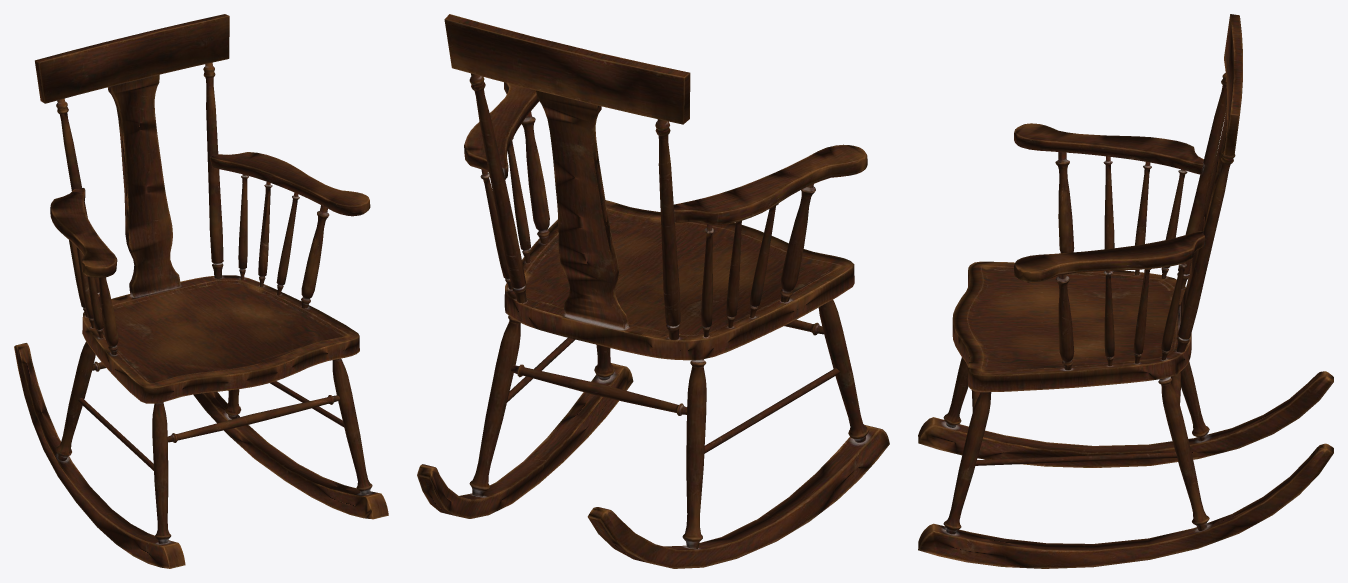
Rendered from Rockingchair_01.gltf.
The picture shows the model from 3 angles, left to right: view 1: azimuth 30°, elevation 25°; view 2: azimuth 150°, elevation 25°; view 3: azimuth 270°, elevation 25°; orthographic projection. The views are drawn at different scales.
Visible parts, largest first — view 1: Rockingchair_01; view 2: Rockingchair_01; view 3: Rockingchair_01.
Part boxes in pixels (x1,y1,x2,y2): Rockingchair_01: [14, 14, 388, 568]; Rockingchair_01: [417, 14, 889, 568]; Rockingchair_01: [918, 14, 1333, 568].
Bounding box in the file's own units: 0.7081 × 0.9949 × 0.8337.
1 material, 1 textured.
